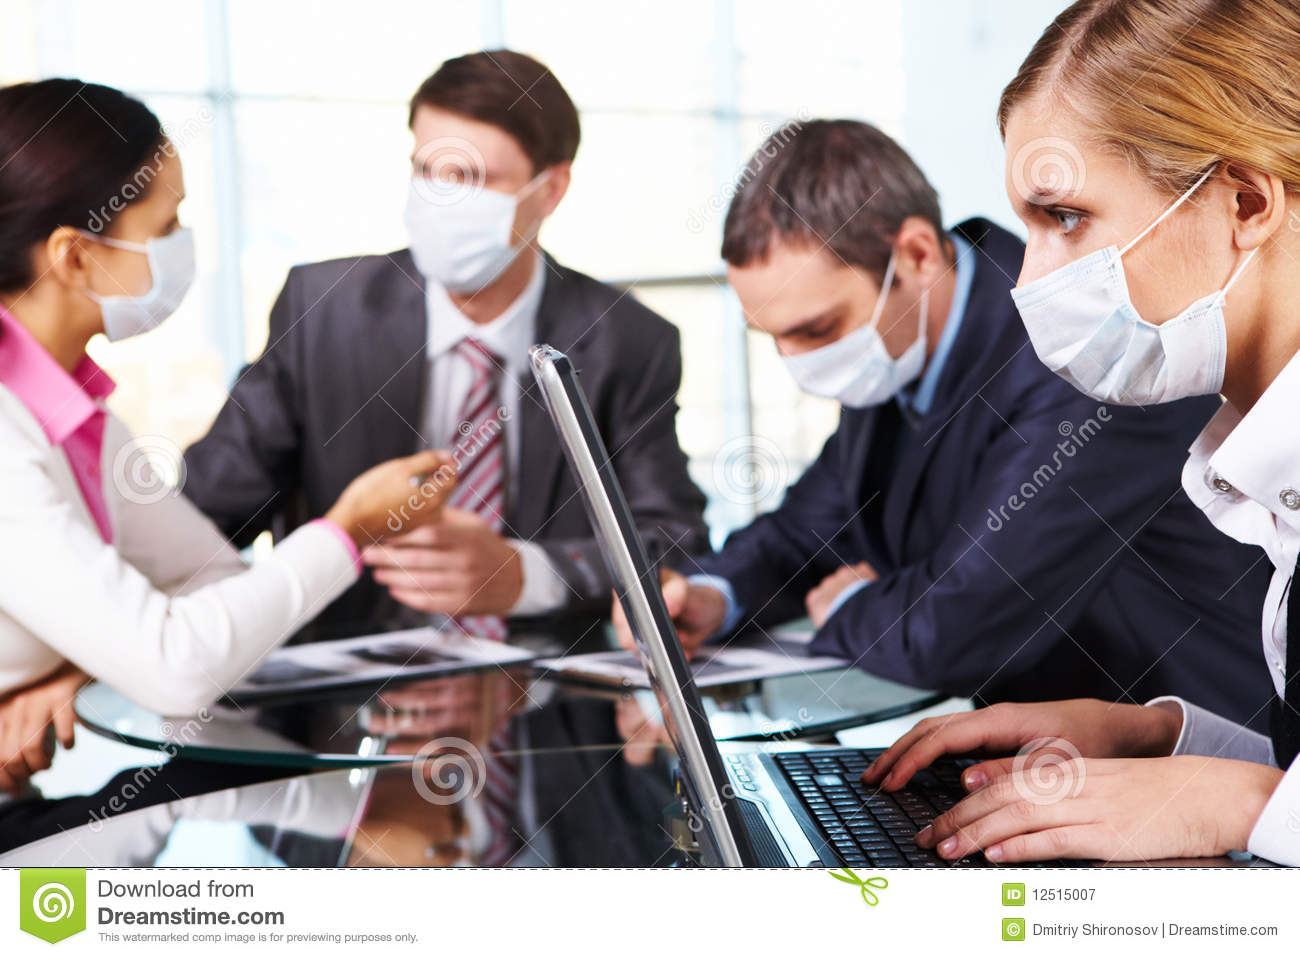mask: (1011, 244, 1227, 407)
